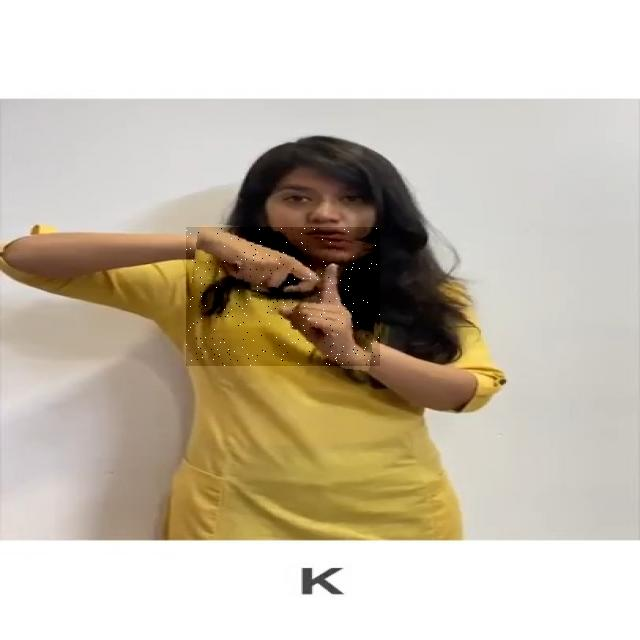K: (187, 227, 380, 366)
